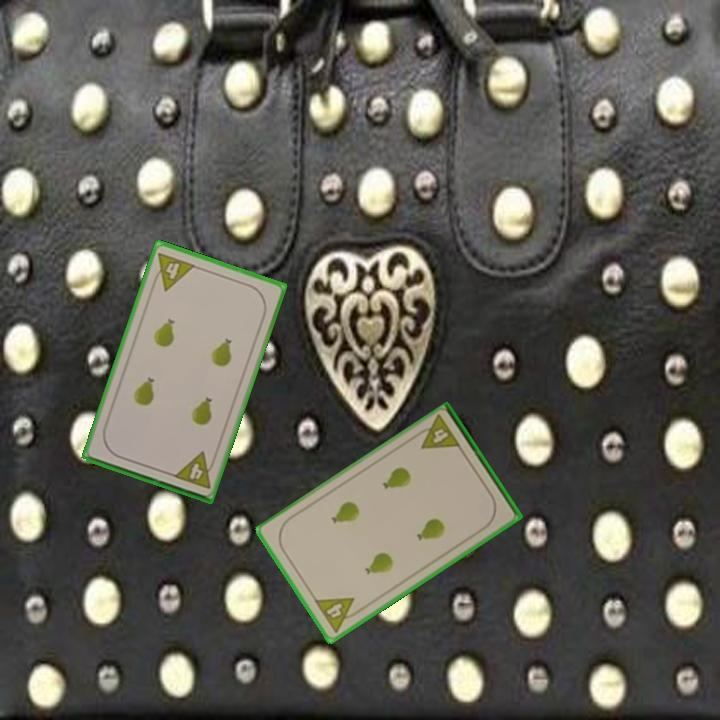4p: (148, 249, 198, 294), (311, 594, 364, 636), (411, 412, 464, 453), (170, 448, 219, 492)
